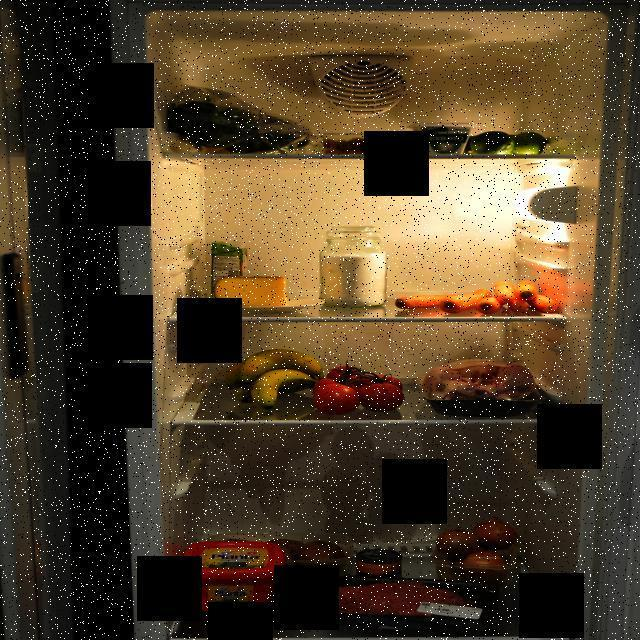banana: (225, 346, 328, 414)
butter: (182, 536, 285, 616)
carrot: (394, 280, 562, 316)
cheese: (212, 272, 290, 310)
chicken: (417, 356, 548, 416)
corn: (352, 545, 405, 581)
goat_cheese: (407, 123, 476, 155)
ground_beef: (324, 578, 482, 620)
heavy_cream: (210, 239, 250, 296)
lime: (468, 130, 550, 154)
onion: (432, 522, 524, 582)
potato: (264, 532, 360, 580)
shrimp: (326, 134, 404, 156)
spinach: (153, 85, 319, 155)
sugar: (315, 224, 395, 306)
tomato: (310, 360, 410, 418)
